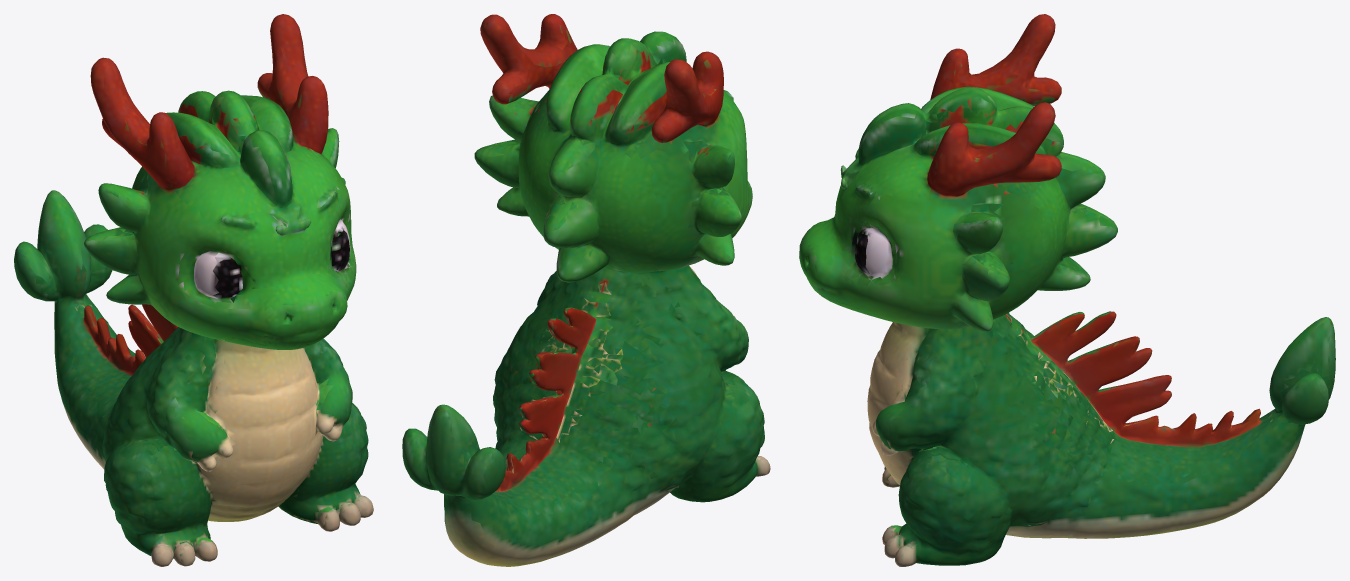
File: dragon.glb
3 views of the same model, side by side, from view 1: azimuth 30°, elevation 25°; view 2: azimuth 150°, elevation 25°; view 3: azimuth 270°, elevation 25° (orthographic). The views are drawn at different scales.
Bounding box in the file's own units: 0.5661 × 0.9442 × 1.
1 material, 1 textured.
